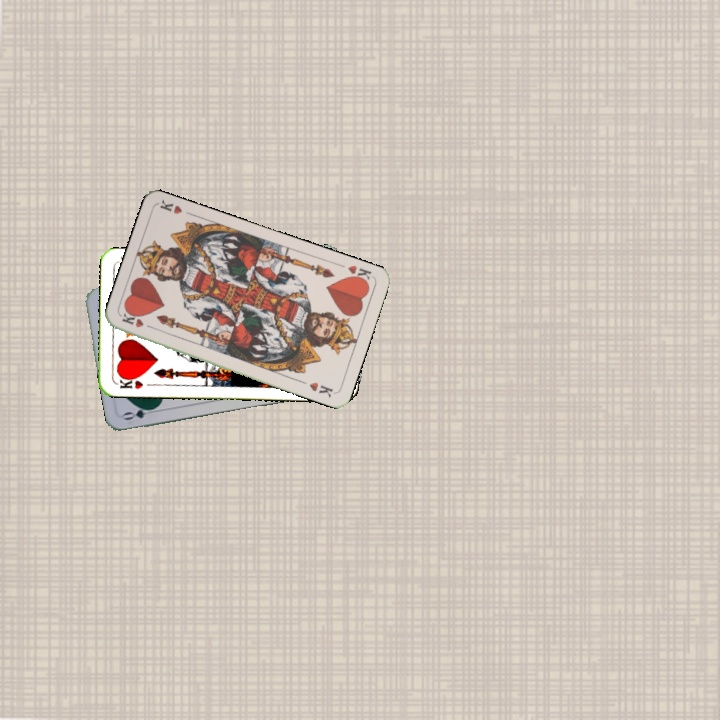GO: (120, 402, 160, 423)
HK: (118, 310, 158, 332), (344, 261, 375, 287), (115, 372, 145, 392)
